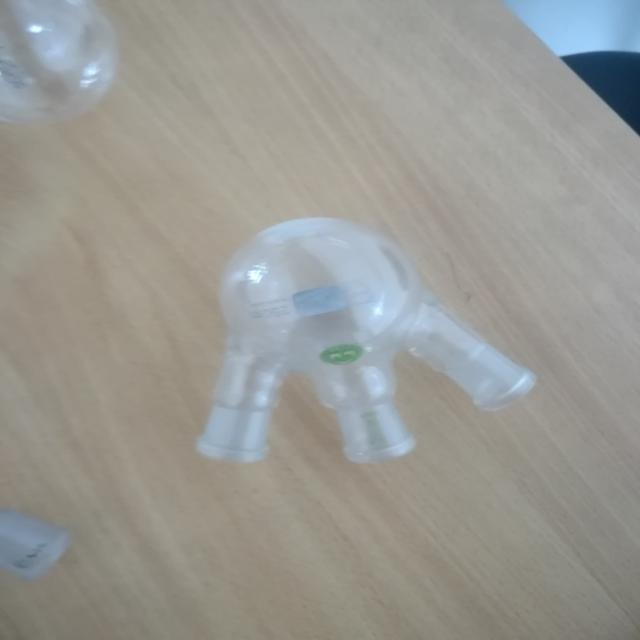Round_Bottom_Flask_Borosilicate_Glass_3_Neck: (155, 160, 578, 510)
